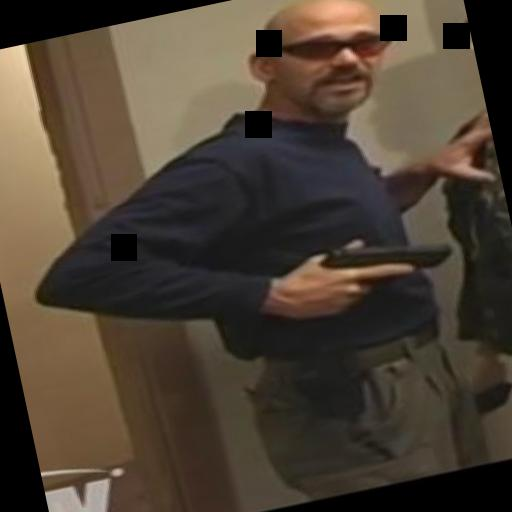Handgun: (296, 220, 462, 322)
